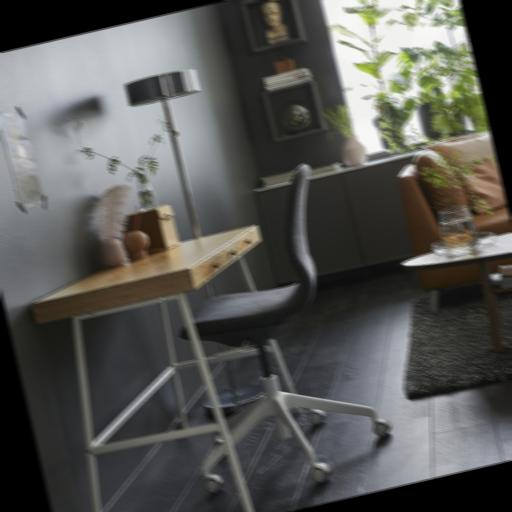chair: (138, 158, 402, 510)
desk: (24, 221, 324, 512)
sofa: (388, 126, 512, 313)
wall: (0, 1, 336, 512), (220, 0, 362, 185)
